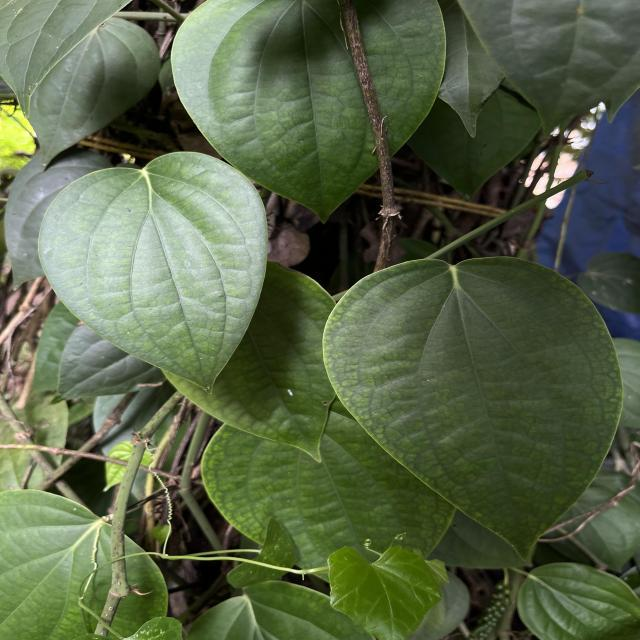Piper nigrum: (318, 253, 626, 567), (36, 149, 271, 397)
